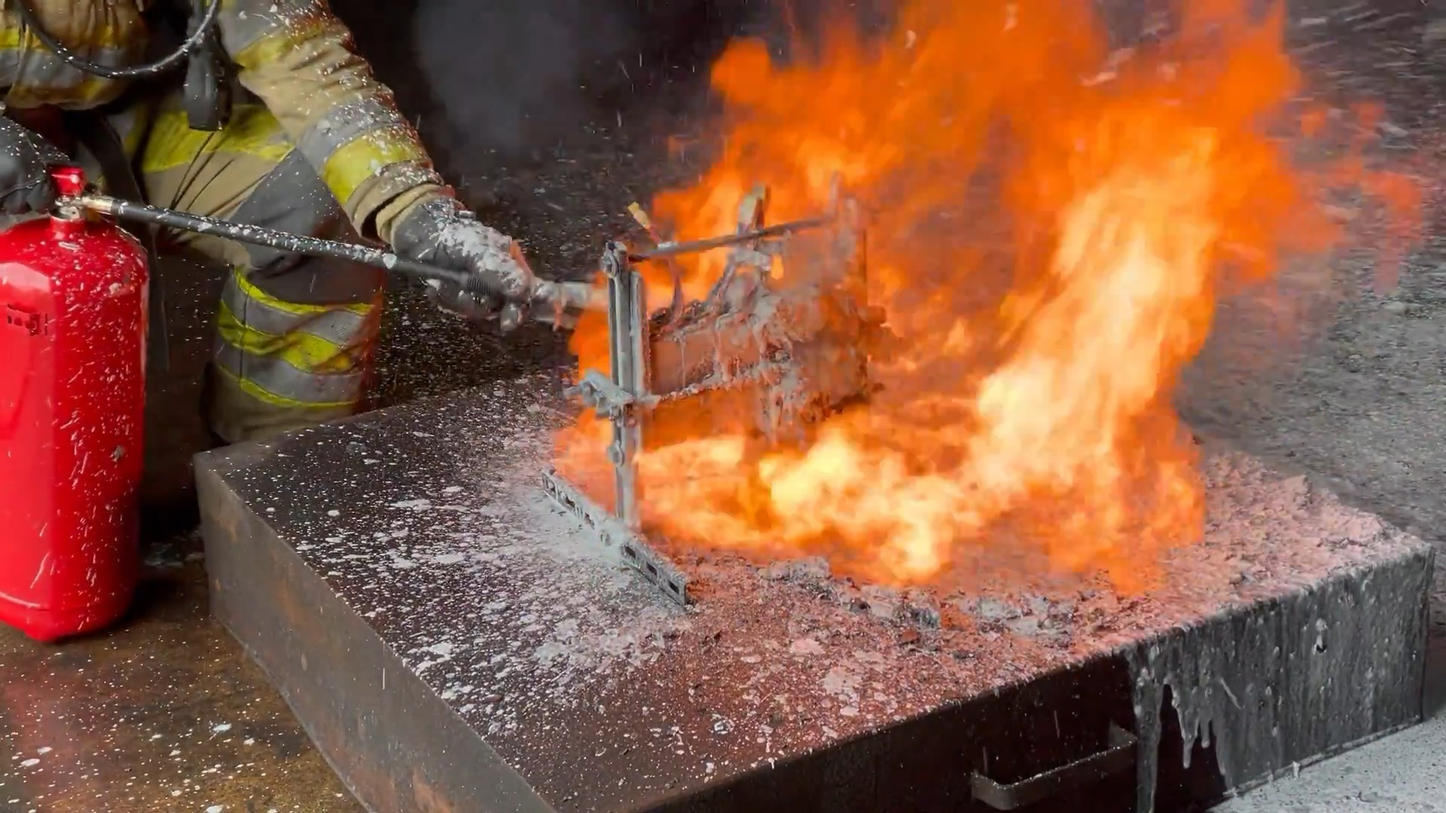fire: (555, 0, 1424, 604)
smoke: (350, 0, 742, 212)
